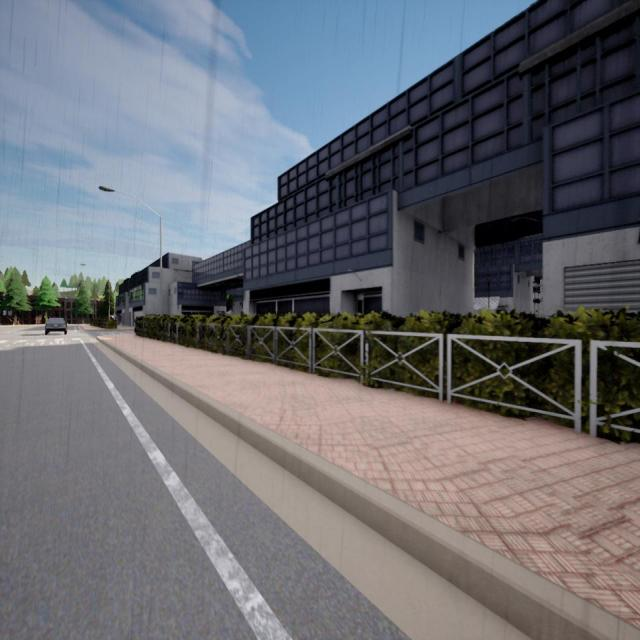Vehicle: (45, 317, 67, 335)
